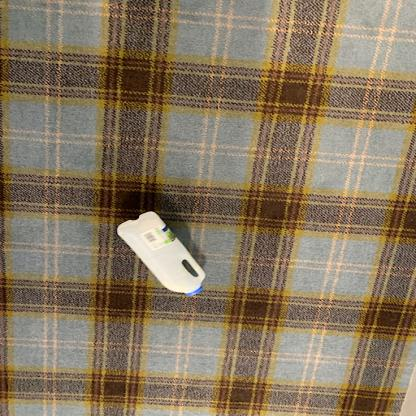trash: (116, 211, 208, 298)
